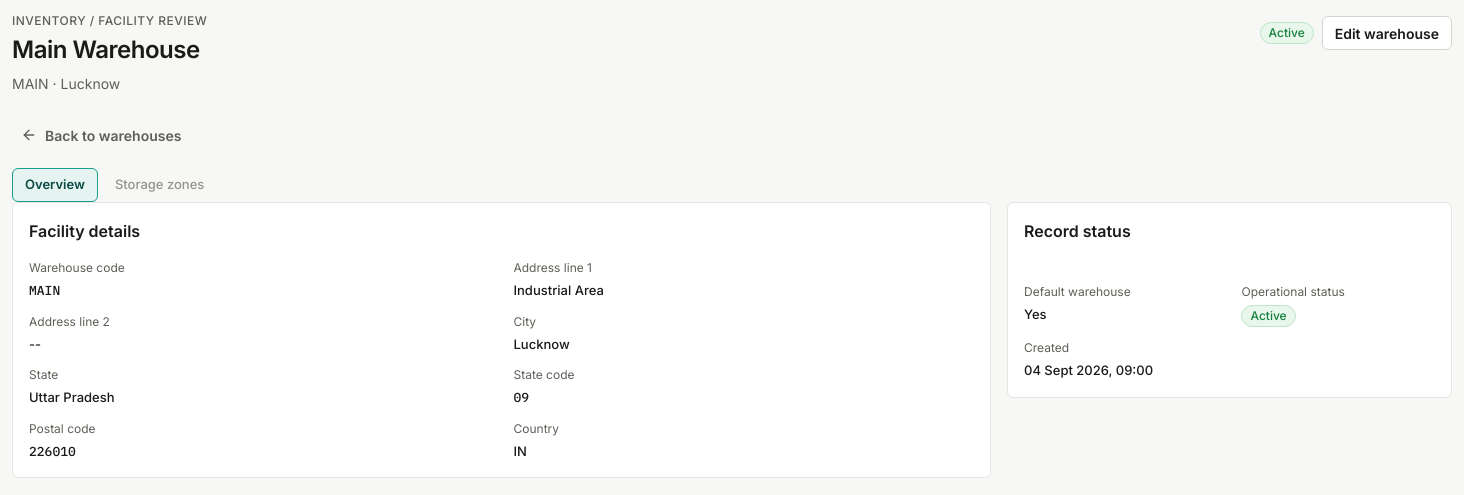
Test case: WarehouseDetailPage › distinguishes a zone-query failure from an empty warehouse
This screenshot has width=1464, height=495.
Expected: the heading "Main Warehouse" is shown, [12,34,207,65]
Step 1. Click the tab "Storage zones" → x=160, y=185, box [102,168,217,202]
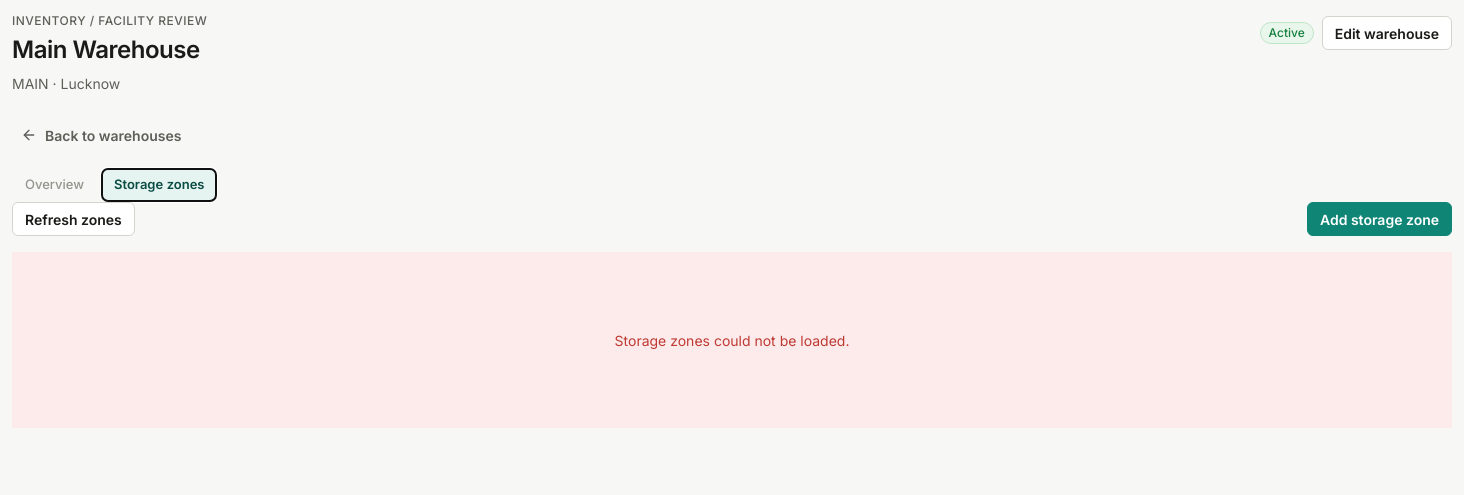
Expected: the message reads "Storage zones could not be loaded.", [615,332,850,349]
